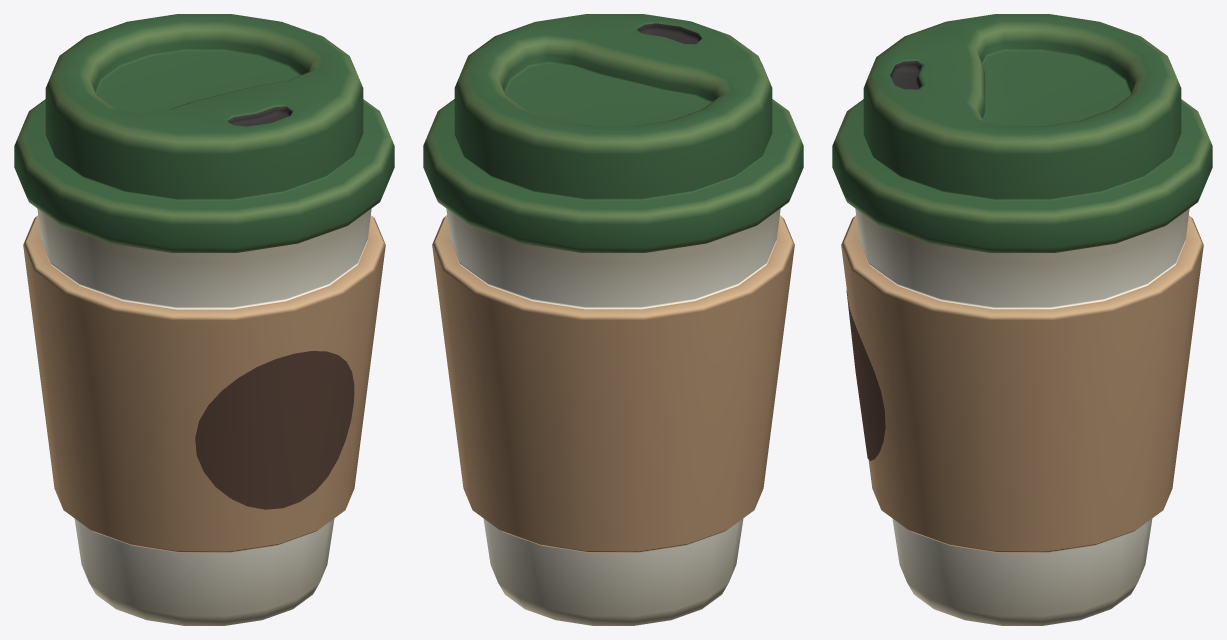
File: coffee.fbx
The picture shows the model from 3 angles, left to right: view 1: azimuth 30°, elevation 25°; view 2: azimuth 150°, elevation 25°; view 3: azimuth 270°, elevation 25°; orthographic projection.
Visible parts, largest first — view 1: coffee; view 2: coffee; view 3: coffee.
Part boxes in pixels (x1,y1,x2,y2): coffee: [14, 14, 394, 625]; coffee: [423, 14, 803, 625]; coffee: [832, 14, 1212, 625].
Size of the model in its own units: 0.7763 by 1.17 by 0.7883.
